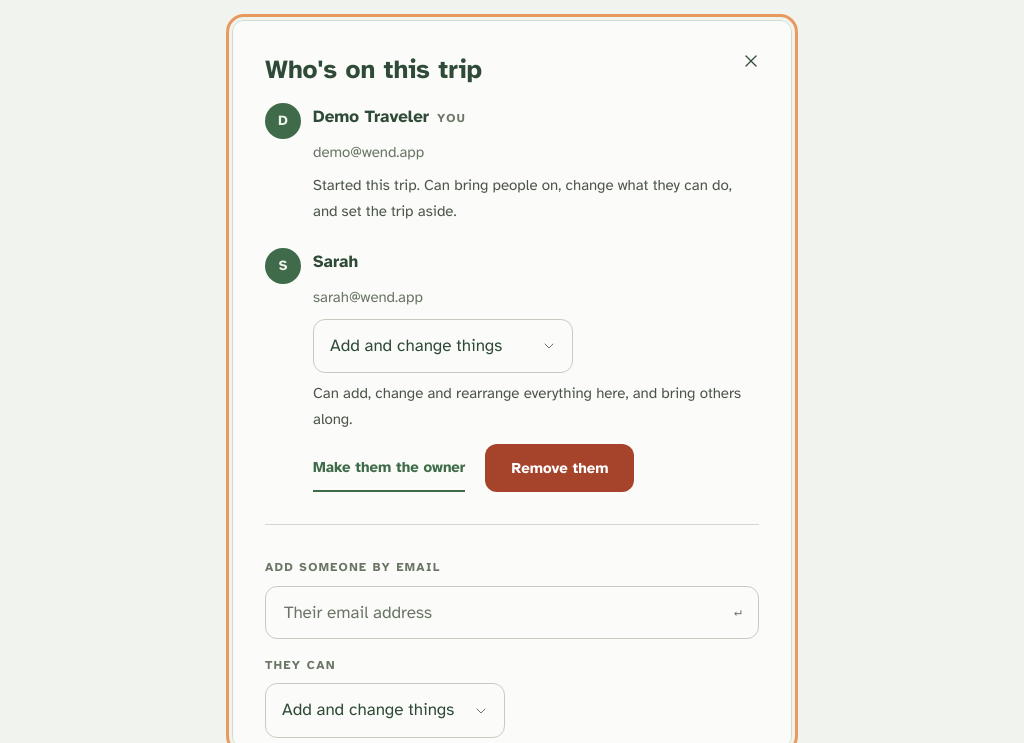
it: SharePanel › asks before handing the trip over, then steps you back to member
Check: the text "Sarah" is shown, box [313,248,358,277]
Click the button "Make them the owner".
click(389, 468)  # box [313,444,465,492]
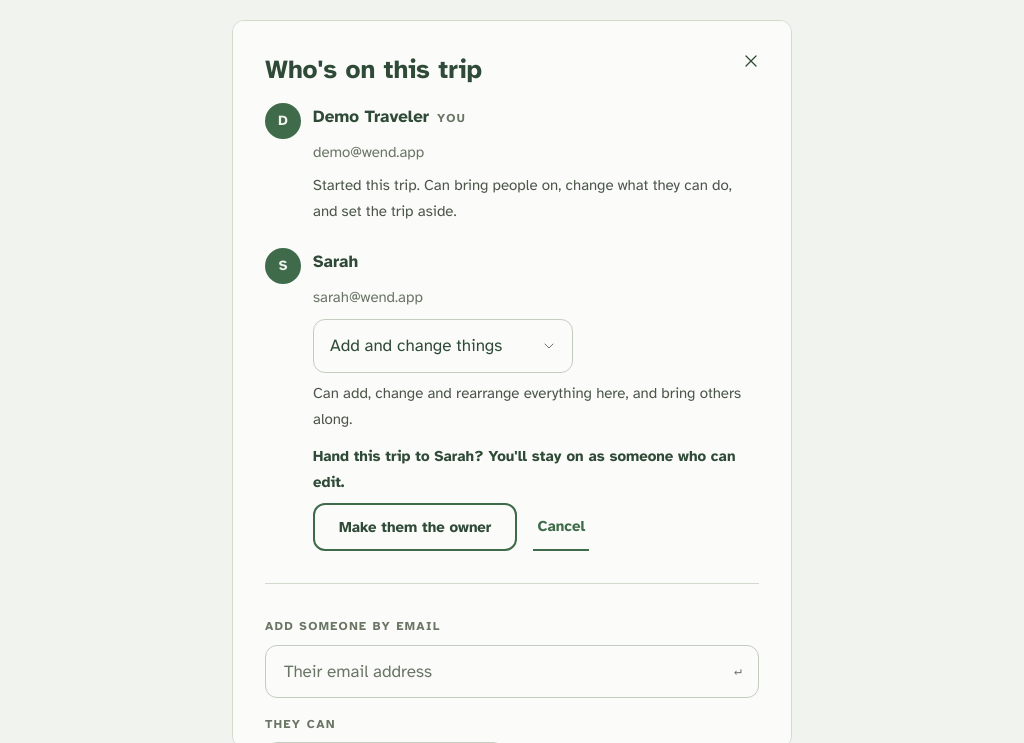
Check: the text "Hand this trip to Sarah? You'll stay on as someone who can edit." is shown, box [313,444,759,496]
Click the button "Make them the owner".
click(415, 528)  # box [313,504,517,552]
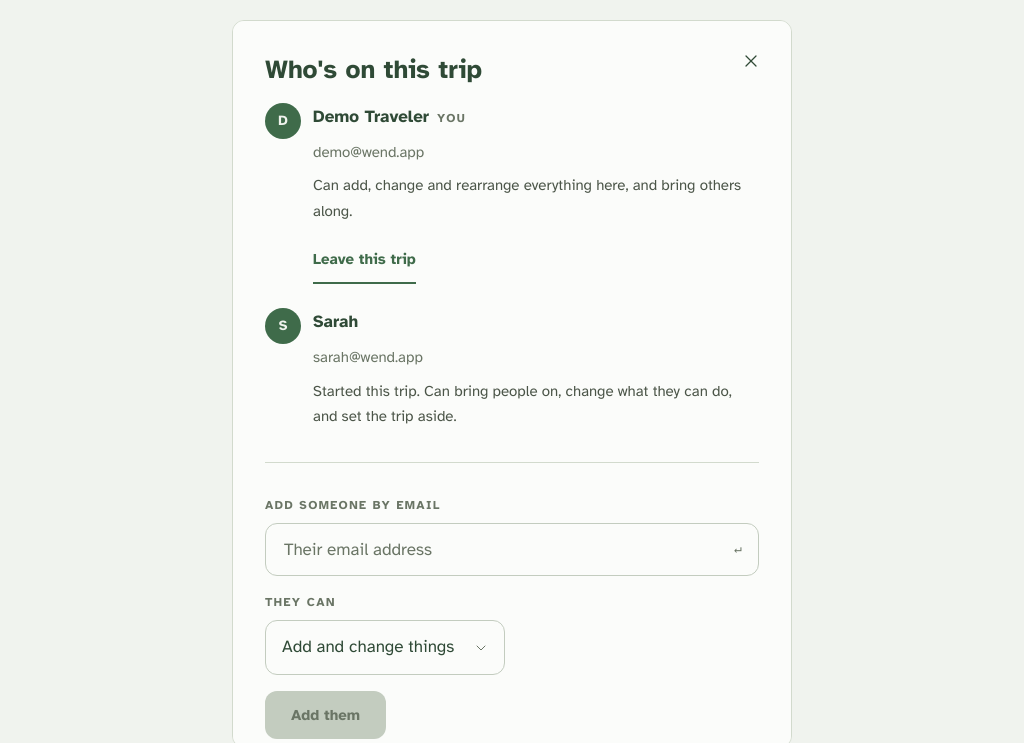
Check: the text "Started this trip. Can bring people on, change what they can do, and set the trip aside." is shown, box [313,382,732,425]
Check: the button "Leave this trip" is shown, box [313,236,416,284]
